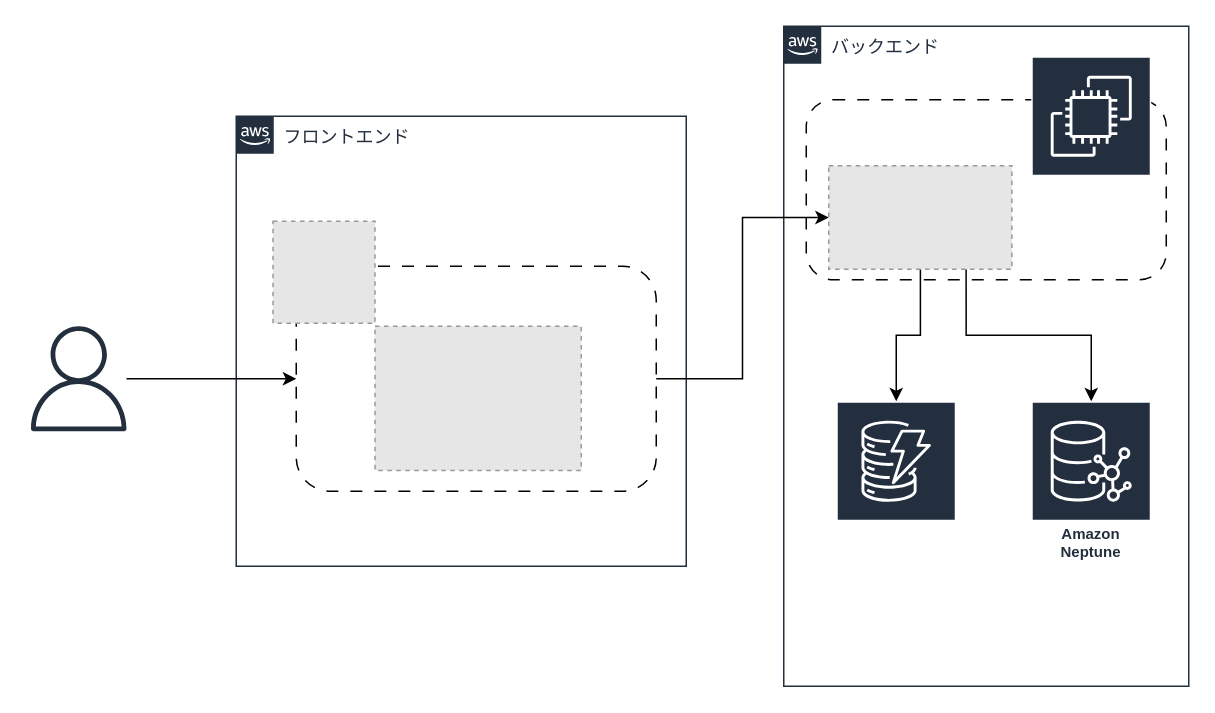
This 1215x713 diagram has some shape labels left out. Grey dashed boxes stand in for pictures. Here are the shapes that lost their labels. From the top down, the centre of each, then its label:
At point (1090, 130): "Amazon EC2".
At point (895, 483): "Amazon DynamoDB".
